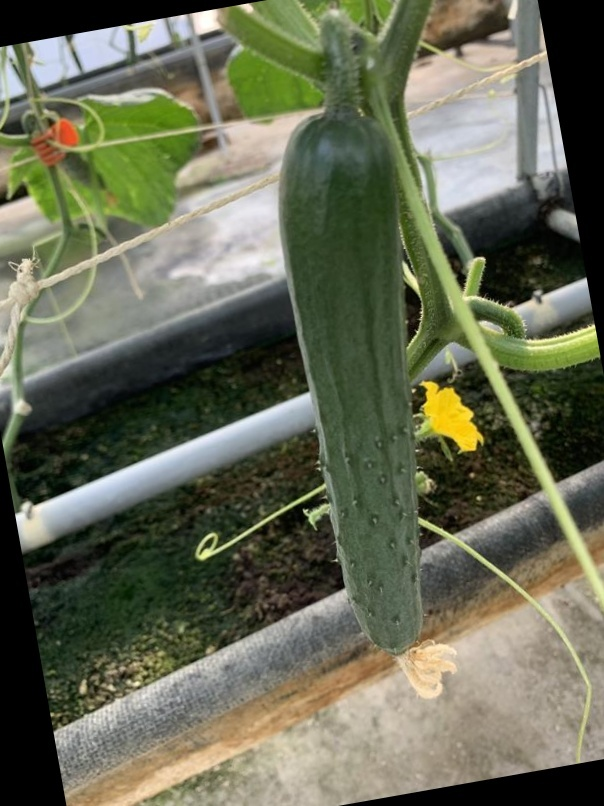mature: (264, 117, 455, 656)
